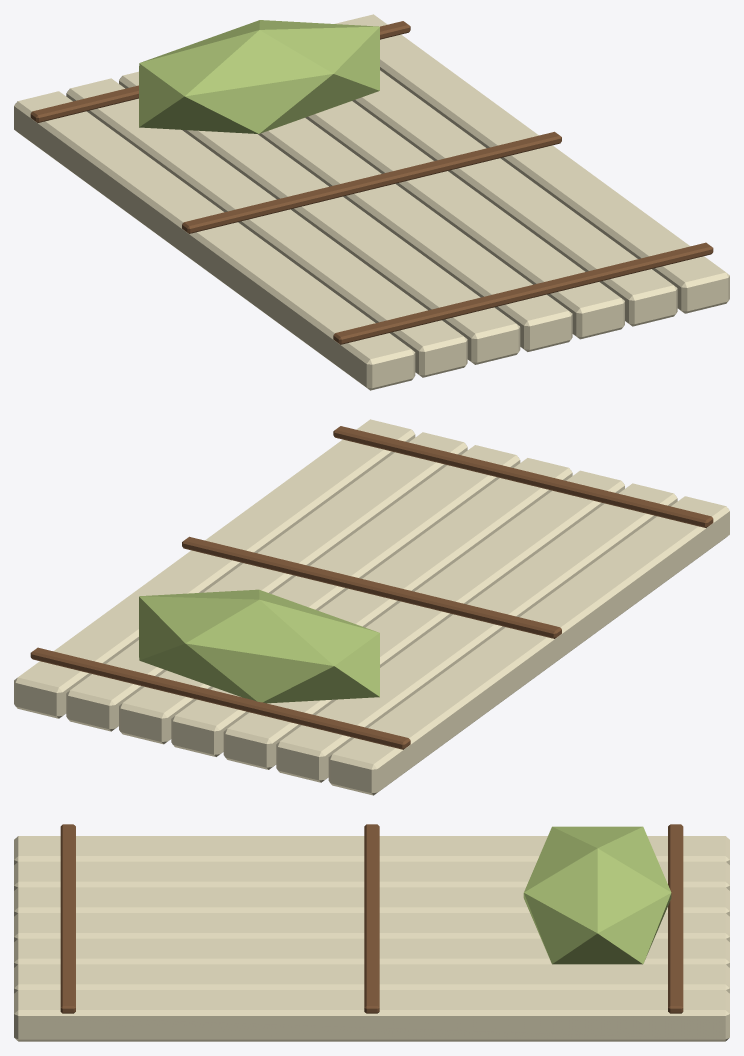
The model's file is CC_SleepingMat.fbx.
The picture shows the model from 3 angles, top to bottom: view 1: azimuth 30°, elevation 25°; view 2: azimuth 150°, elevation 25°; view 3: azimuth 270°, elevation 25°; orthographic projection.
Visible parts, largest first — view 1: Woven strip, Pillow, Woven strip.001, Woven strip.006, Woven strip.002, Woven strip.005, Woven strip.004, Woven strip.003, Binding.002, Binding.003, Binding.004; view 2: Woven strip, Pillow, Woven strip.001, Woven strip.006, Woven strip.002, Woven strip.005, Woven strip.003, Woven strip.004, Binding.002, Binding.004, Binding.003; view 3: Woven strip.006, Woven strip.005, Pillow, Woven strip.004, Woven strip, Woven strip.001, Woven strip.003, Woven strip.002, Binding.002, Binding.003, Binding.004.
Part boxes in pixels (left/top/right/bottom): Woven strip: left=14, top=91, right=415, bottom=390; Pillow: left=139, top=20, right=379, bottom=133; Woven strip.001: left=66, top=78, right=467, bottom=377; Woven strip.006: left=335, top=14, right=729, bottom=313; Woven strip.002: left=119, top=71, right=520, bottom=364; Woven strip.005: left=352, top=70, right=677, bottom=326; Woven strip.004: left=305, top=101, right=624, bottom=339; Woven strip.003: left=258, top=118, right=572, bottom=351; Binding.002: left=333, top=242, right=713, bottom=344; Binding.003: left=182, top=131, right=561, bottom=233; Binding.004: left=30, top=21, right=410, bottom=122; Woven strip: left=328, top=496, right=729, bottom=795; Pillow: left=139, top=589, right=379, bottom=703; Woven strip.001: left=276, top=483, right=677, bottom=782; Woven strip.006: left=14, top=419, right=415, bottom=718; Woven strip.002: left=223, top=470, right=624, bottom=769; Woven strip.005: left=66, top=432, right=467, bottom=731; Woven strip.003: left=171, top=458, right=572, bottom=756; Woven strip.004: left=119, top=445, right=520, bottom=744; Binding.002: left=333, top=426, right=713, bottom=527; Binding.004: left=30, top=647, right=410, bottom=749; Binding.003: left=182, top=536, right=561, bottom=638; Woven strip.006: left=14, top=990, right=729, bottom=1041; Woven strip.005: left=14, top=964, right=729, bottom=993; Pillow: left=523, top=826, right=671, bottom=964; Woven strip.004: left=14, top=938, right=729, bottom=967; Woven strip: left=14, top=836, right=729, bottom=864; Woven strip.001: left=14, top=861, right=729, bottom=890; Woven strip.003: left=14, top=913, right=729, bottom=941; Woven strip.002: left=14, top=887, right=729, bottom=916; Binding.002: left=60, top=824, right=75, bottom=1013; Binding.003: left=364, top=824, right=379, bottom=1013; Binding.004: left=668, top=824, right=683, bottom=1013.
Bounding box in the file's own units: 1 × 0.27 × 1.65.
